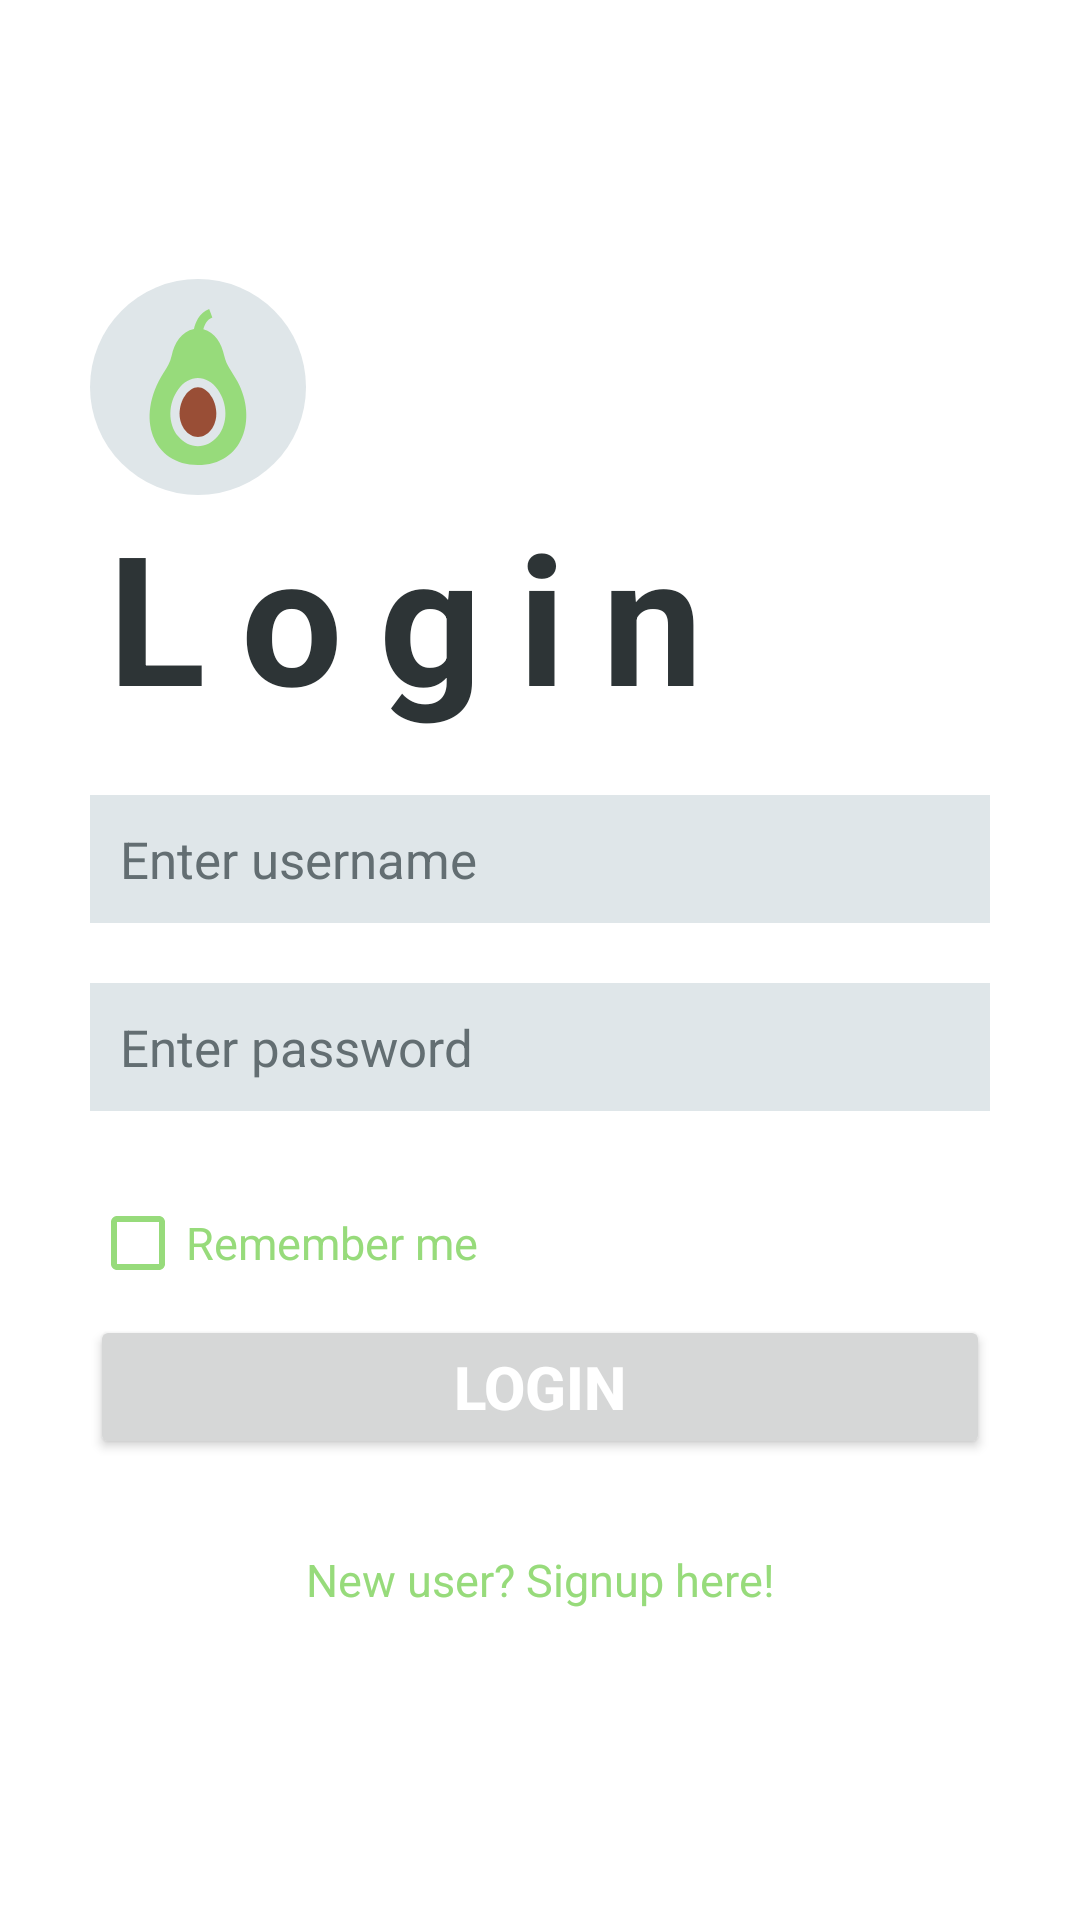

Icons on this 1080x1920 Android screen, each with its box as {"left": x1, "top": y1, "right": x2, "bottom": y2}:
avocado: {"left": 90, "top": 279, "right": 306, "bottom": 495}
